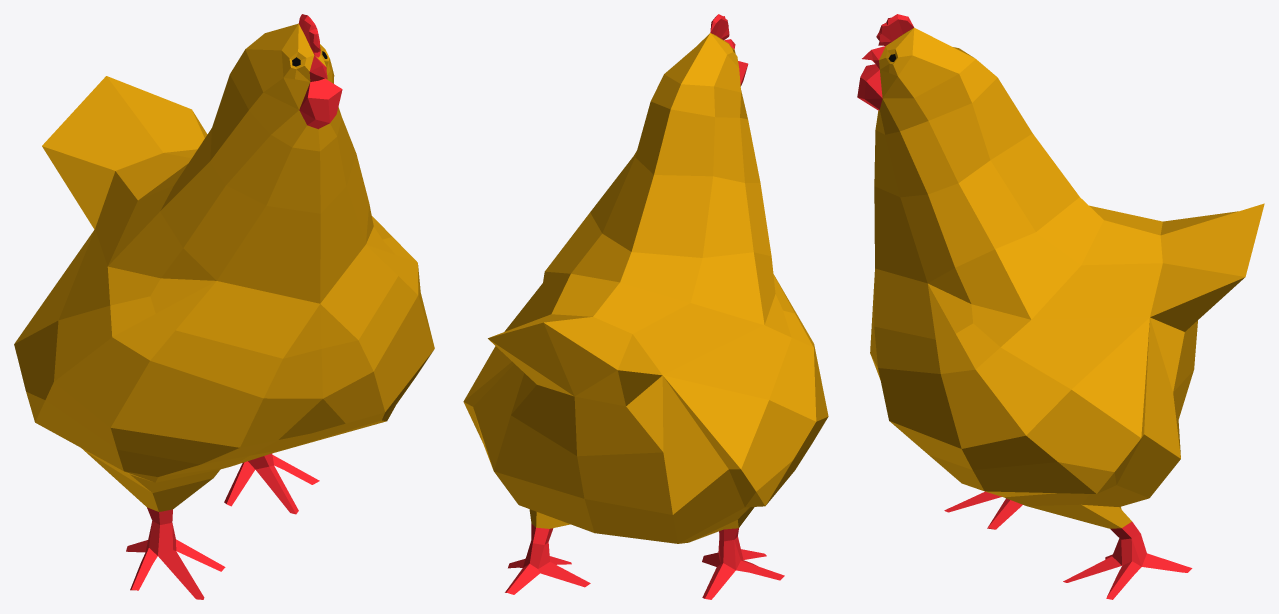
Rendered from chicken_1.FBX.
The picture shows the model from 3 angles, left to right: view 1: azimuth 30°, elevation 25°; view 2: azimuth 150°, elevation 25°; view 3: azimuth 270°, elevation 25°; orthographic projection. The views are drawn at different scales.
Parts seen in each view (by area): view 1: chicken_1; view 2: chicken_1; view 3: chicken_1.
Boxes of the visible parts, <box> form: chicken_1: <box>14,14,434,599</box>; chicken_1: <box>463,14,828,599</box>; chicken_1: <box>857,14,1264,599</box>.
Bounding box in the file's own units: 0.2162 × 0.3292 × 0.2283.
Materials: 1 (1 with a texture image).
